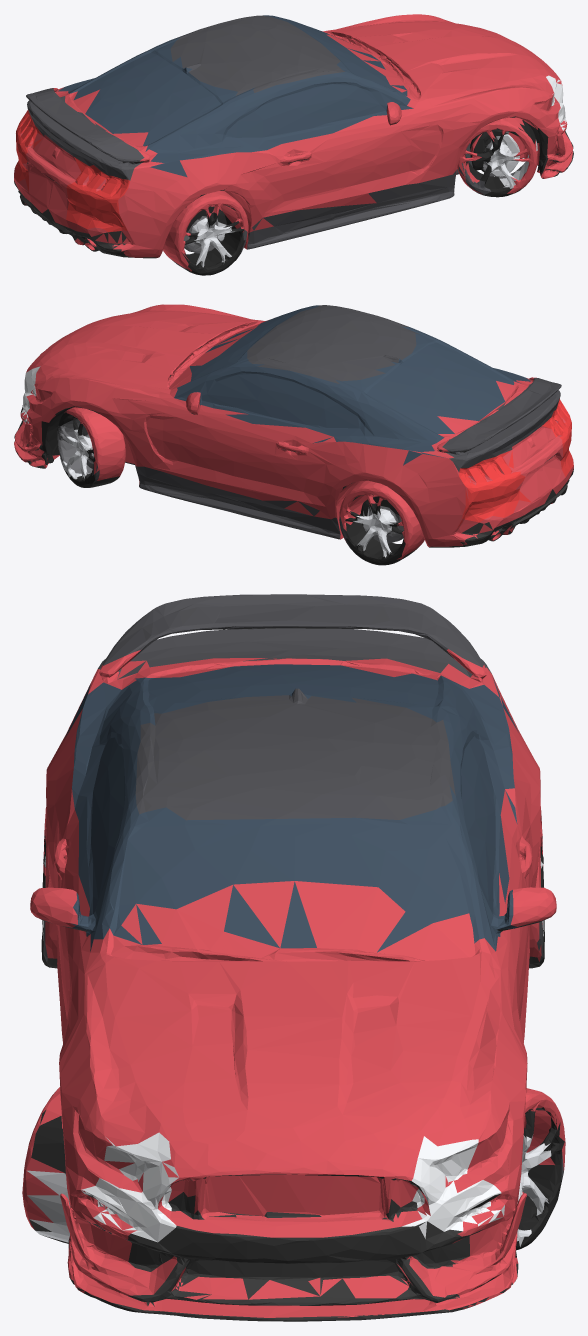
Rendered from CarConcept2.game.glb.
3 views of the same model, one above another, from view 1: azimuth 30°, elevation 25°; view 2: azimuth 150°, elevation 25°; view 3: azimuth 270°, elevation 25° (orthographic). The views are drawn at different scales.
Parts seen in each view (by area): view 1: Body, WheelFrontR, WheelRearR; view 2: Body, WheelRearL, WheelFrontL; view 3: Body, WheelFrontL, WheelFrontR.
Part boxes in pixels (left/top/right/bottom): Body: left=14, top=14, right=573, bottom=274; WheelFrontR: left=465, top=120, right=548, bottom=197; WheelRearR: left=182, top=206, right=245, bottom=275; Body: left=14, top=304, right=573, bottom=563; WheelRearL: left=344, top=495, right=405, bottom=565; WheelFrontL: left=39, top=407, right=95, bottom=487; Body: left=22, top=594, right=565, bottom=1321; WheelFrontL: left=515, top=1111, right=564, bottom=1257; WheelFrontR: left=27, top=1110, right=70, bottom=1247.
Bounding box in the file's own units: 4.4 × 1.33 × 2.06.
